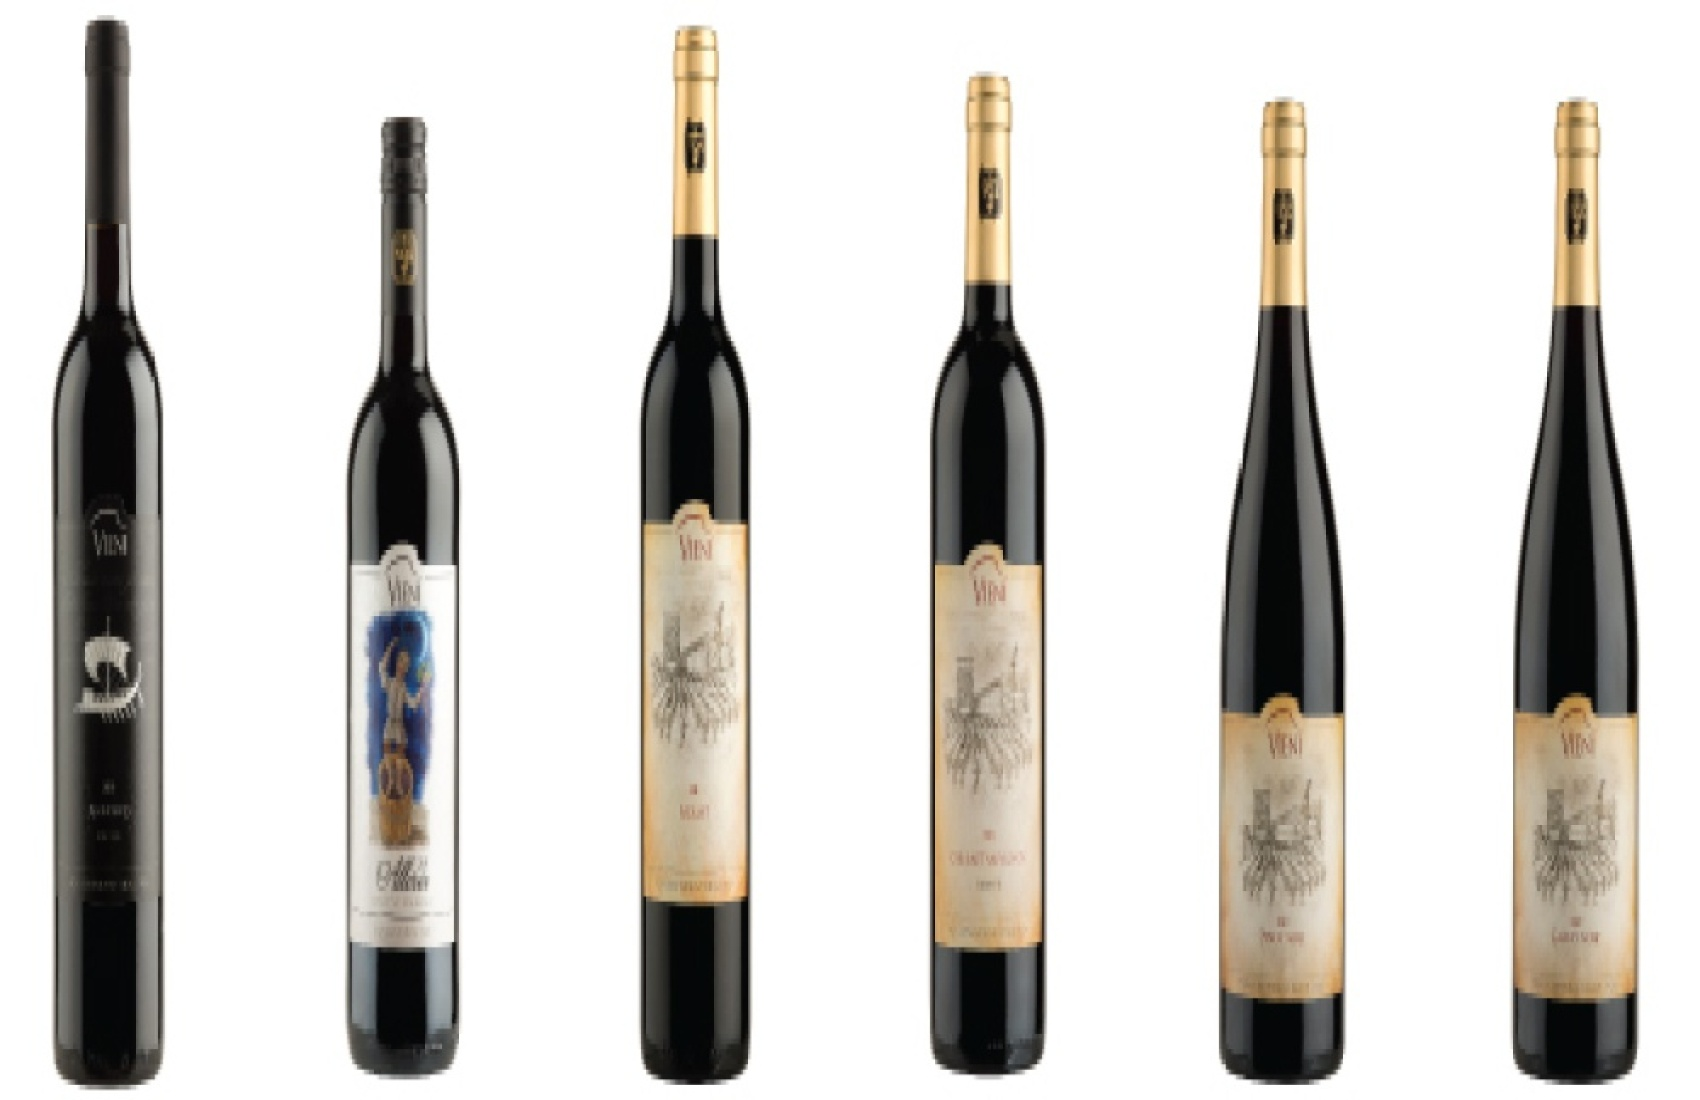wine: (55, 51, 169, 1073), (643, 53, 756, 1075), (940, 59, 1053, 1081), (1225, 62, 1338, 1084), (1522, 57, 1634, 1079), (342, 53, 455, 1075)
